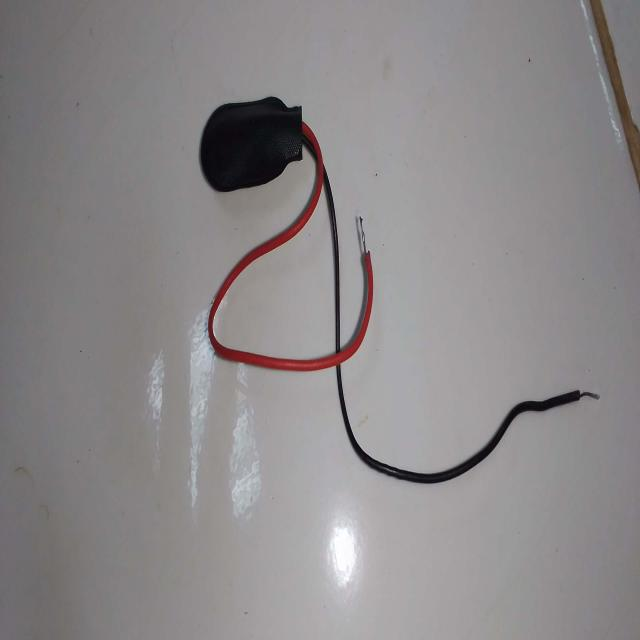Battery Holder: (196, 78, 377, 390)
